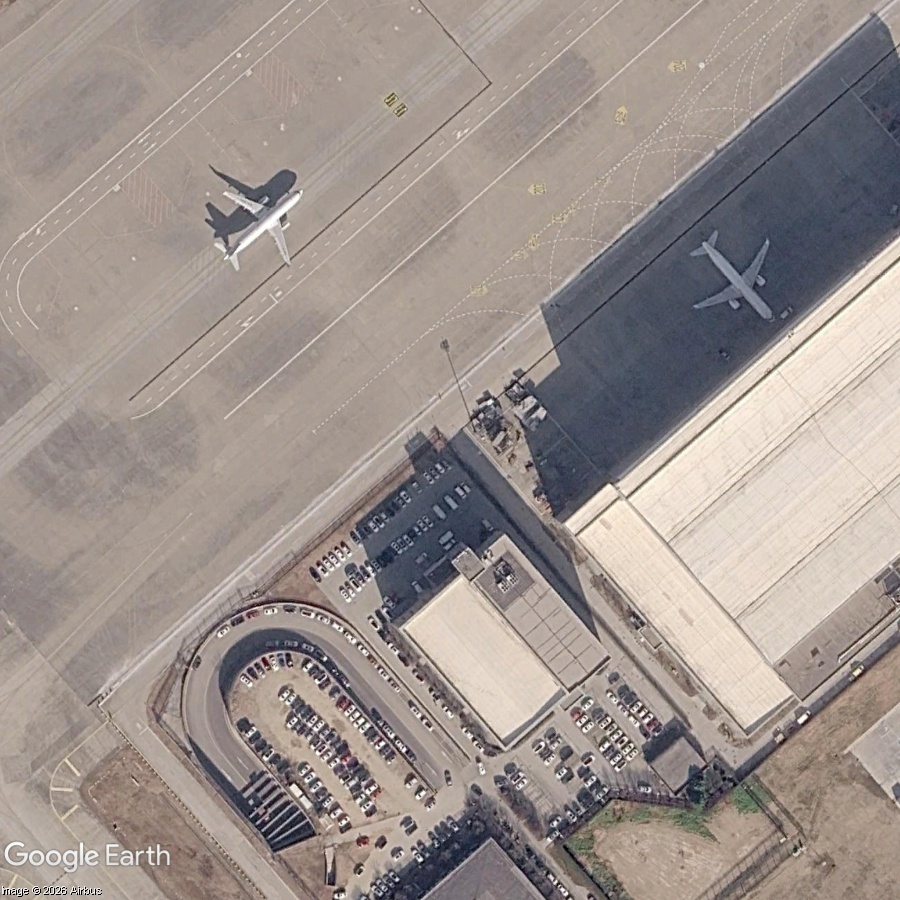Máy bay dân dụng: (659, 203, 813, 356), (189, 149, 339, 299)
